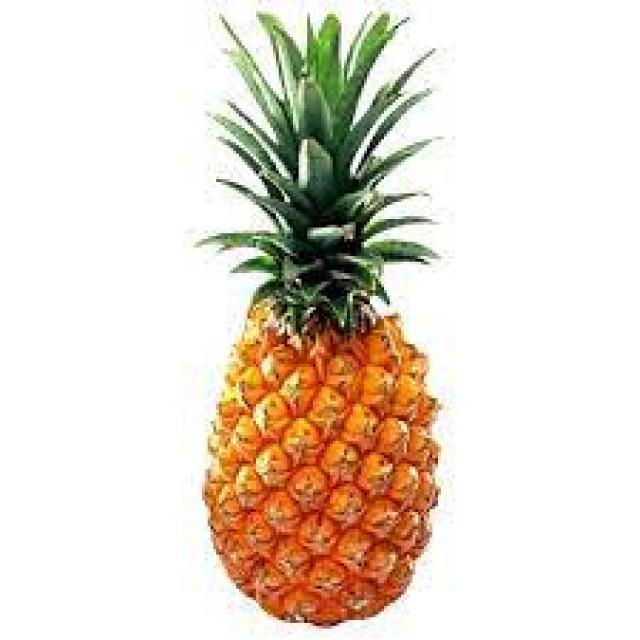pineapple: (202, 6, 447, 628)
